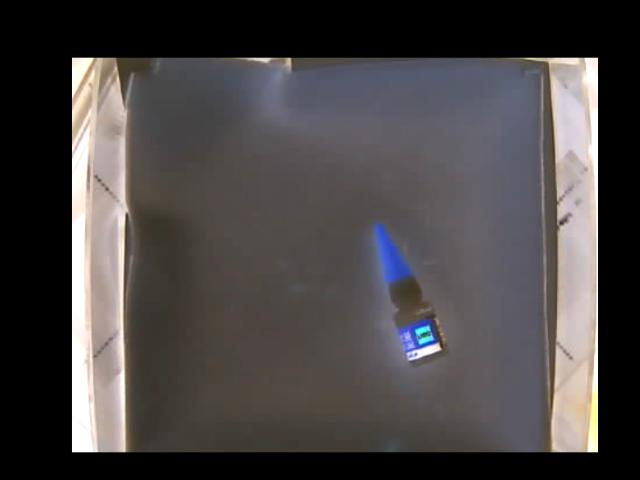Bottle: (372, 223, 446, 367)
